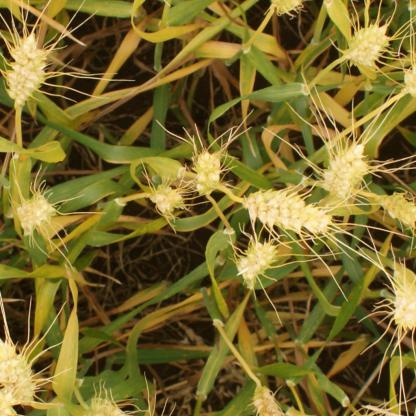whd: (242, 187, 334, 238), (0, 31, 50, 108), (321, 141, 368, 203), (0, 336, 39, 406), (341, 22, 392, 68), (12, 191, 59, 238), (234, 240, 276, 285), (374, 188, 416, 228), (194, 146, 224, 197), (390, 276, 416, 332), (149, 180, 187, 218), (249, 382, 285, 416), (86, 396, 134, 416), (401, 54, 416, 100), (270, 0, 307, 16), (0, 393, 23, 415)
